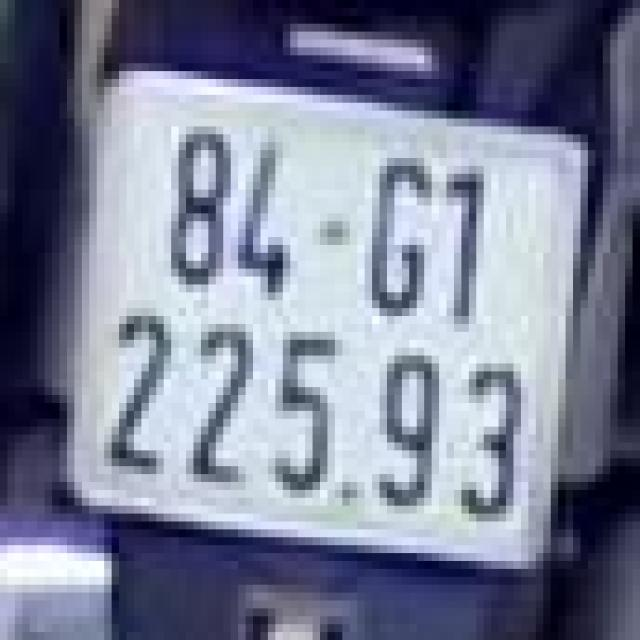1: (443, 162, 495, 328)
2: (190, 320, 257, 494), (112, 304, 171, 478)
3: (462, 356, 528, 530)
4: (238, 130, 298, 304)
5: (275, 324, 335, 490)
8: (167, 119, 227, 292)
9: (376, 348, 443, 514)
G: (361, 154, 435, 320)
